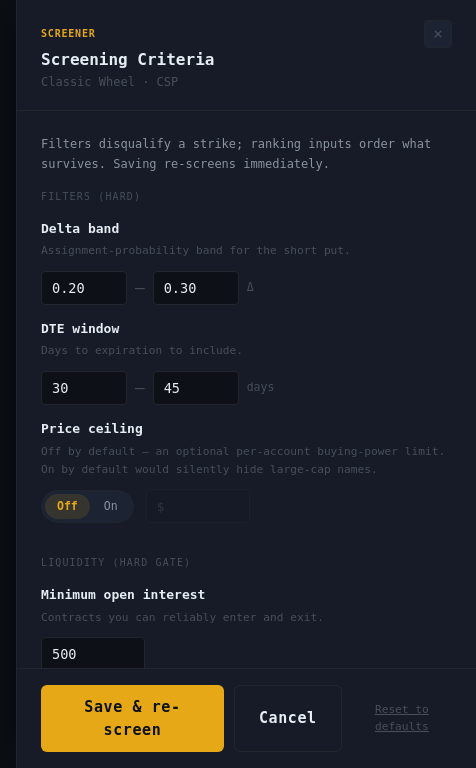
Test: shows the inverted-band error and disables Save & re-screen for a delta band of 0.30–0.20
Replace the text in the field named "Maximum delta" with "0.10": (196, 288) [164, 278, 228, 298]
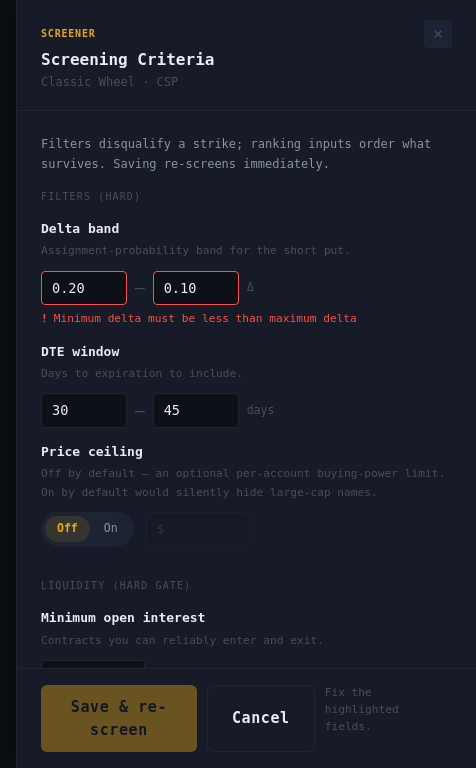
Now the button "Save & re-screen" is disabled, box [41, 685, 197, 752]
Now the text "Minimum delta must be less than maximum delta" is shown, box [54, 312, 357, 325]
